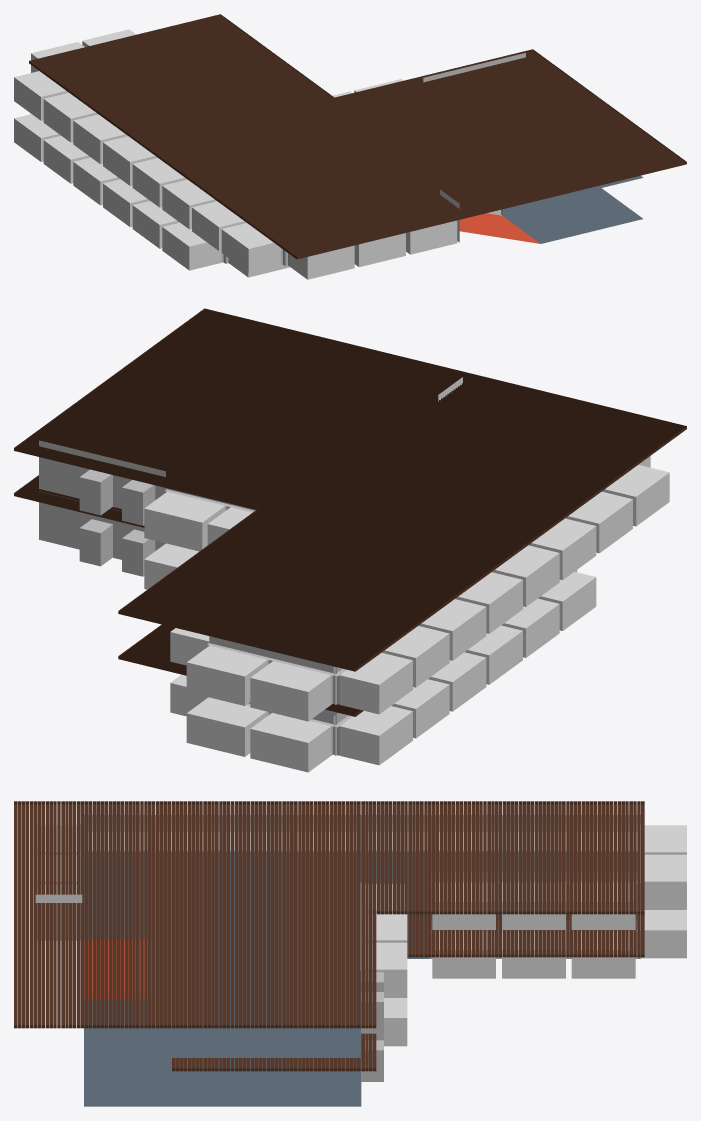
File: mall 0205 (1).fbx
3 views of the same model, one above another, from view 1: azimuth 30°, elevation 25°; view 2: azimuth 150°, elevation 25°; view 3: azimuth 270°, elevation 25° (orthographic). The views are drawn at different scales.
Parts seen in each view (by area): view 1: roof cover L.009, roof cover L.016, roof cover L.020, roof cover L.030, roof cover L.023, roof cover L.024, roof cover L.014, roof cover L.018, roof cover L.019, roof cover L.022, roof cover L.025, roof cover L.026 (+51 smaller); view 2: roof cover L.031, store_plain.028, roof cover L.017, roof cover L.020, roof cover L.022, roof cover L.015, roof cover L.019, roof cover L.027, roof cover L.025, roof cover L.014, roof cover L.024, roof cover L.028 (+59 smaller); view 3: roof cover L.021, roof cover L.026, roof cover L.015, roof cover L.016, roof cover L.017, roof cover L.018, roof cover L.020, roof cover L.024, roof cover L.025, roof cover L.027, roof cover L.029, roof cover L.030 (+93 smaller).
Part boxes in pixels (x1=…): roof cover L.009: x1=290, y1=157, x2=686, y2=259; roof cover L.016: x1=243, y1=123, x2=639, y2=224; roof cover L.020: x1=216, y1=103, x2=612, y2=204; roof cover L.030: x1=149, y1=54, x2=545, y2=155; roof cover L.023: x1=196, y1=88, x2=592, y2=190; roof cover L.024: x1=190, y1=83, x2=586, y2=185; roof cover L.014: x1=257, y1=132, x2=652, y2=234; roof cover L.018: x1=230, y1=113, x2=626, y2=215; roof cover L.019: x1=223, y1=108, x2=619, y2=209; roof cover L.022: x1=203, y1=93, x2=599, y2=195; roof cover L.025: x1=183, y1=78, x2=579, y2=180; roof cover L.026: x1=176, y1=73, x2=572, y2=175; roof cover L.031: x1=14, y1=442, x2=504, y2=568; store_plain.028: x1=250, y1=651, x2=336, y2=721; roof cover L.017: x1=130, y1=357, x2=620, y2=483; roof cover L.020: x1=105, y1=375, x2=595, y2=501; roof cover L.022: x1=88, y1=387, x2=578, y2=513; roof cover L.015: x1=147, y1=345, x2=637, y2=471; roof cover L.019: x1=114, y1=369, x2=603, y2=495; roof cover L.027: x1=47, y1=418, x2=537, y2=544; roof cover L.025: x1=64, y1=405, x2=554, y2=531; roof cover L.014: x1=155, y1=339, x2=645, y2=464; roof cover L.024: x1=72, y1=399, x2=562, y2=525; roof cover L.028: x1=39, y1=424, x2=529, y2=550; roof cover L.021: x1=203, y1=801, x2=218, y2=1028; roof cover L.026: x1=282, y1=801, x2=297, y2=1028; roof cover L.015: x1=108, y1=801, x2=123, y2=1028; roof cover L.016: x1=124, y1=801, x2=139, y2=1028; roof cover L.017: x1=140, y1=801, x2=155, y2=1028; roof cover L.018: x1=156, y1=801, x2=171, y2=1028; roof cover L.020: x1=187, y1=801, x2=202, y2=1028; roof cover L.024: x1=250, y1=801, x2=265, y2=1028; roof cover L.025: x1=266, y1=801, x2=281, y2=1028; roof cover L.027: x1=298, y1=801, x2=313, y2=1028; roof cover L.029: x1=329, y1=801, x2=344, y2=1028; roof cover L.030: x1=345, y1=801, x2=360, y2=1028.
Size of the model in its own units: 6341 by 1193 by 7716.
